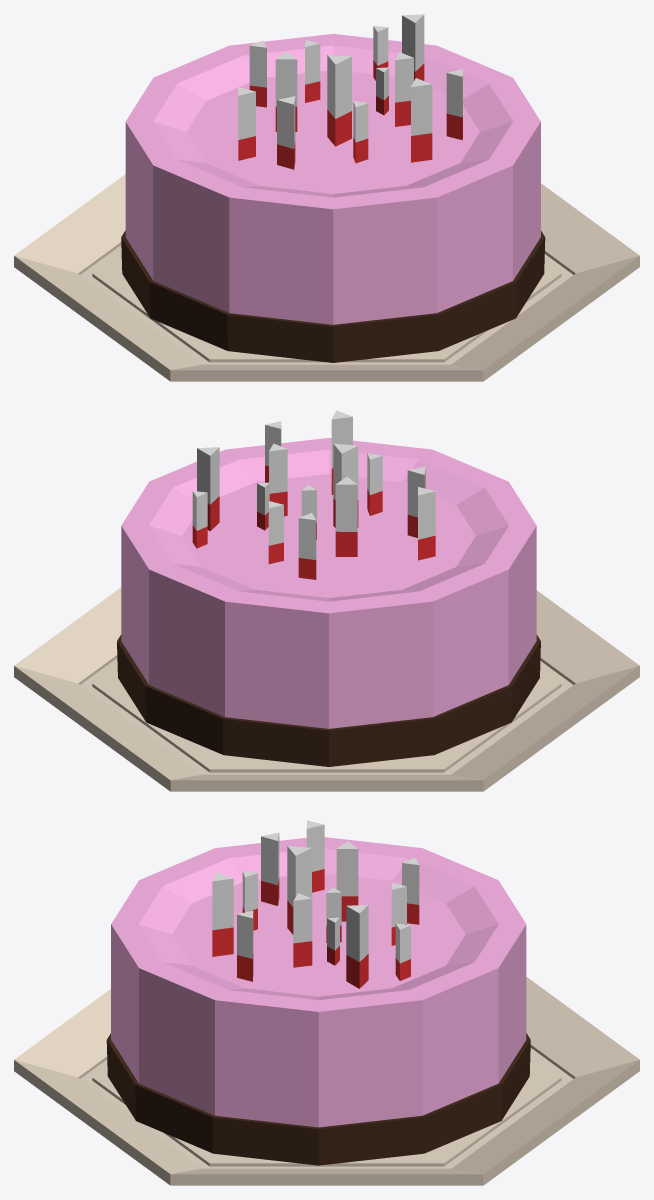
Rendered from AssietteGatoPincake.fbx.
3 views of the same model, one above another, from view 1: azimuth 30°, elevation 25°; view 2: azimuth 150°, elevation 25°; view 3: azimuth 270°, elevation 25° (orthographic).
Visible parts, largest first — view 1: Cake; view 2: Cake; view 3: Cake.
Boxes of the visible parts, bbox=[...] form: Cake: bbox=[14, 14, 639, 381]; Cake: bbox=[14, 410, 639, 791]; Cake: bbox=[14, 820, 639, 1185].
Size of the model in its own units: 0.8266 by 0.3995 by 0.9545.
